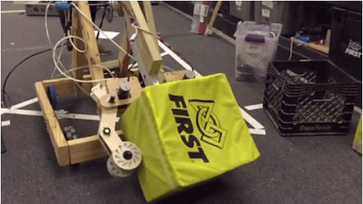cube: (120, 73, 261, 204)
